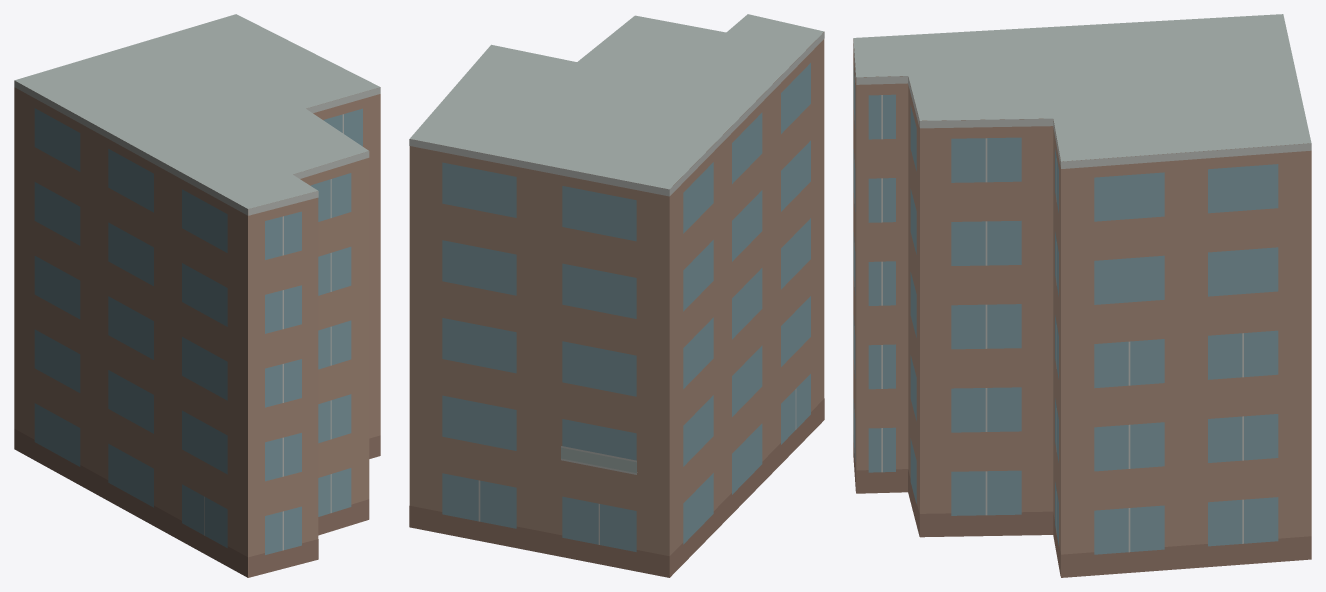
Rendered from survey-upis-32816707.glb.
The picture shows the model from 3 angles, left to right: view 1: azimuth 30°, elevation 25°; view 2: azimuth 150°, elevation 25°; view 3: azimuth 270°, elevation 25°; orthographic projection. The views are drawn at different scales.
Visible parts, largest first — view 1: survey-upis-32816707.tmp; view 2: survey-upis-32816707.tmp; view 3: survey-upis-32816707.tmp.
Boxes of the visible parts, x1,y1,x2,y2 form: survey-upis-32816707.tmp: [14, 14, 380, 577]; survey-upis-32816707.tmp: [409, 14, 824, 577]; survey-upis-32816707.tmp: [853, 14, 1311, 577].
Size of the model in its own units: 10.2 by 13.4 by 13.38.
